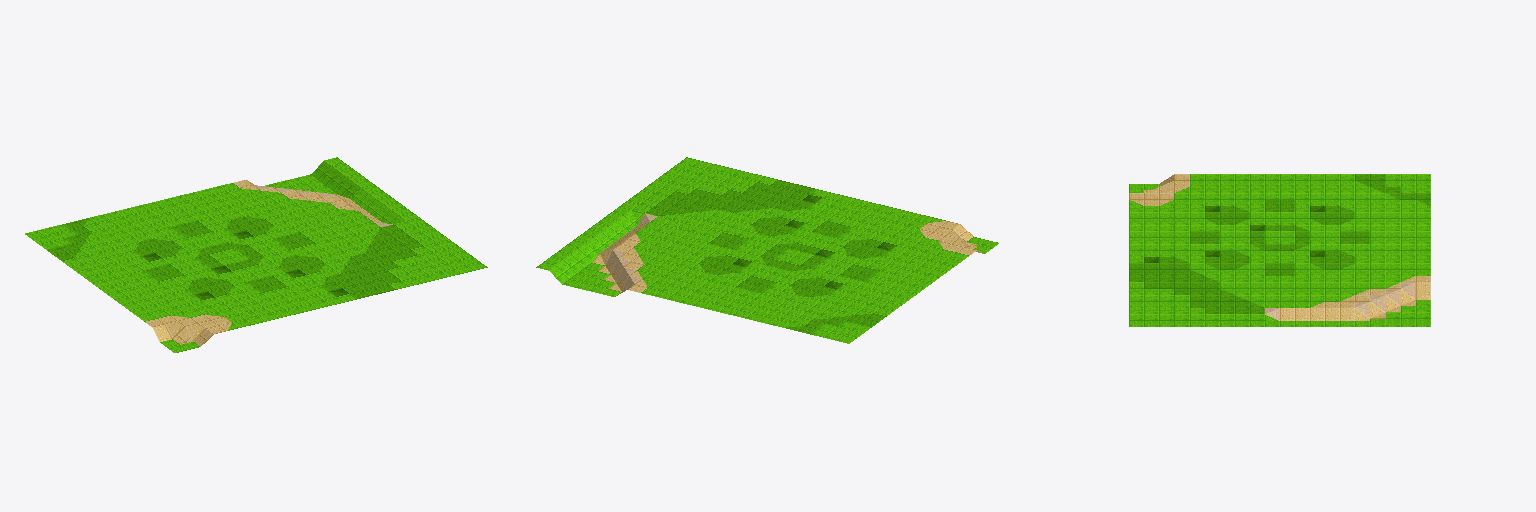
The picture shows the model from 3 angles: view 1: azimuth 30°, elevation 25°; view 2: azimuth 150°, elevation 25°; view 3: azimuth 270°, elevation 25°; orthographic projection.
Visible parts, largest first — view 1: FloorSide_8; view 2: FloorSide_8; view 3: FloorSide_8.
Boxes of the visible parts, <box> form: FloorSide_8: <box>25,157,487,352</box>; FloorSide_8: <box>536,157,998,343</box>; FloorSide_8: <box>1129,174,1430,326</box>.
Size of the model in its own units: 24 by 0.7901 by 20.
13 materials, 13 textured.